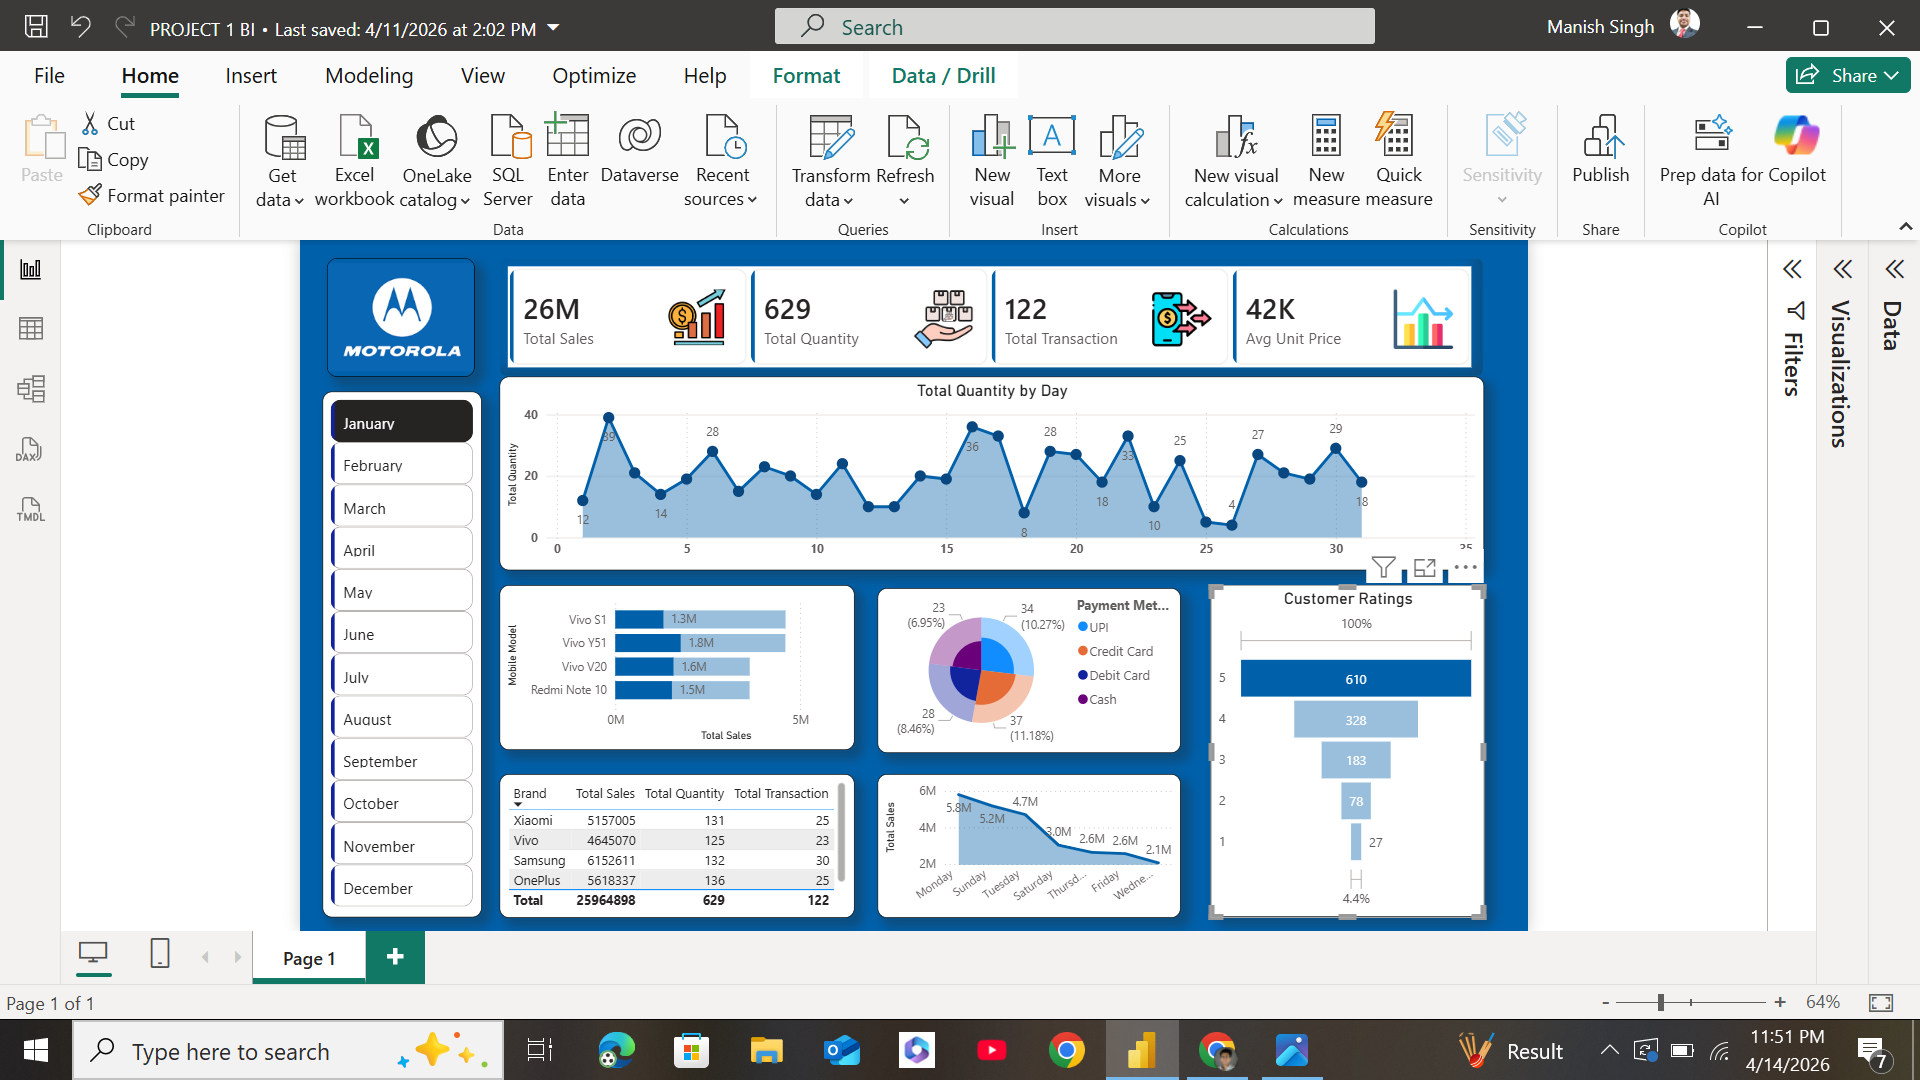

What the dashboard file says about the page in this screenshot:
{"tool":"powerbi","page":{"name":"Page 1","canvas":[1280,720],"ordinal":0},"visuals":[{"type":"image","box":[28,18,154,124],"z":0},{"type":"advancedSlicerVisual","fields":{"Values":["Sheet1.Date.Variation.Date Hierarchy.Month"]},"box":[24,158,166,548],"z":1000},{"type":"cardVisual","fields":{"Data":["mobile sales.total_sales","mobile sales.Total Quantity","mobile sales.Total Transaction","mobile sales.Avg Unit Price"]},"box":[207.9,18.8,1025.3,123.5],"z":2000},{"type":"image","box":[374,52,80,58],"z":3000},{"type":"image","box":[632,52,78,62],"z":4000},{"type":"image","box":[1132,52,78,62],"z":5000},{"type":"image","box":[670,48,10,62],"z":6000},{"type":"image","box":[880,52,78,62],"z":7000},{"type":"lineChart","fields":{"Y":["mobile sales.Total Quantity"],"Category":["mobile sales.Date.Variation.Date Hierarchy.Month","mobile sales.Date.Variation.Date Hierarchy.Day"]},"box":[208,142,1026,202],"z":8000},{"type":"clusteredBarChart","fields":{"Category":["mobile sales.Mobile Model"],"Y":["mobile sales.Total Sales"]},"box":[208,360,370,172],"z":9000},{"type":"pieChart","fields":{"Category":["mobile sales.Payment Method"],"Y":["mobile sales.Total Transaction"]},"box":[602,362,316,172],"z":10000},{"type":"funnel","title":" Customer Ratings ","fields":{"Y":["Sum(mobile sales.Customer Ratings)"],"Category":["mobile sales.Customer Ratings"]},"box":[948,360,286,346],"z":11000},{"type":"tableEx","fields":{"Values":["mobile sales.Brand","mobile sales.Total Sales","mobile sales.Total Quantity","mobile sales.Total Transaction"]},"box":[208,556,370,150],"z":12000},{"type":"areaChart","fields":{"Y":["mobile sales.Total Sales"],"Category":["mobile sales.Day Name"]},"box":[602,556,316,150],"z":13000}]}

Visuals, with their boxes on the page's 1280x720 design canvas (x1, y1, x2, y2). These are canvas units, not pixel positions in the 1920x1080 screenshot, which may show the page scaled, cropped or inside an application window:
image: (left=28, top=18, right=182, bottom=142)
advancedSlicerVisual - Sheet1.Date.Variation.Date Hierarchy.Month: (left=24, top=158, right=190, bottom=706)
cardVisual - mobile sales.total_sales x mobile sales.Total Quantity: (left=208, top=19, right=1233, bottom=142)
image: (left=374, top=52, right=454, bottom=110)
image: (left=632, top=52, right=710, bottom=114)
image: (left=1132, top=52, right=1210, bottom=114)
image: (left=670, top=48, right=680, bottom=110)
image: (left=880, top=52, right=958, bottom=114)
lineChart - mobile sales.Total Quantity x mobile sales.Date.Variation.Date Hierarchy.Month: (left=208, top=142, right=1234, bottom=344)
clusteredBarChart - mobile sales.Mobile Model x mobile sales.Total Sales: (left=208, top=360, right=578, bottom=532)
pieChart - mobile sales.Payment Method x mobile sales.Total Transaction: (left=602, top=362, right=918, bottom=534)
" Customer Ratings " funnel: (left=948, top=360, right=1234, bottom=706)
tableEx - mobile sales.Brand x mobile sales.Total Sales: (left=208, top=556, right=578, bottom=706)
areaChart - mobile sales.Total Sales x mobile sales.Day Name: (left=602, top=556, right=918, bottom=706)
